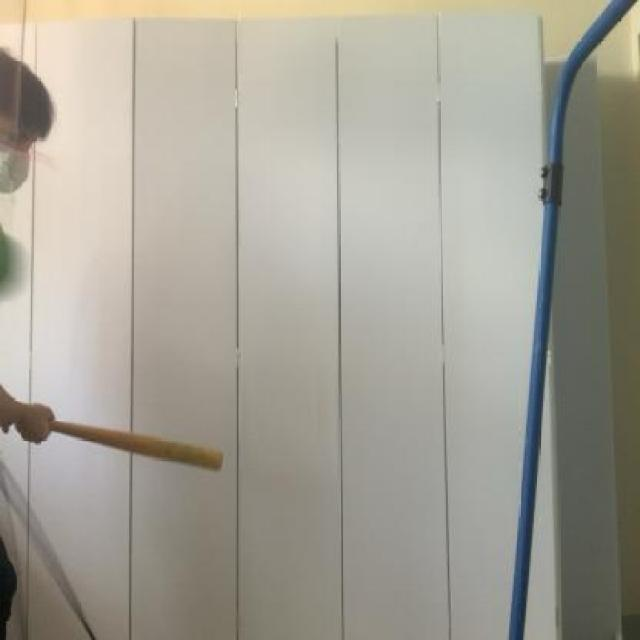baseball: (0, 228, 34, 298)
